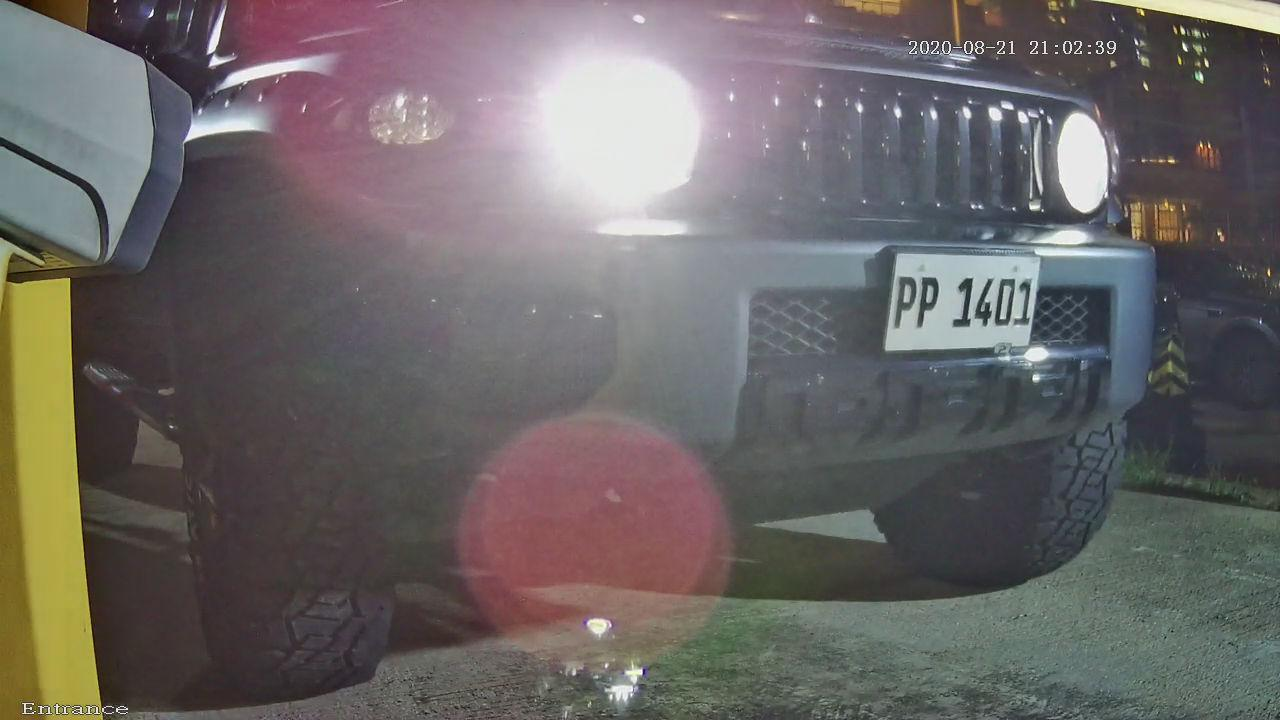Car: (103, 29, 1189, 627)
License Plate: (819, 227, 1090, 391)
